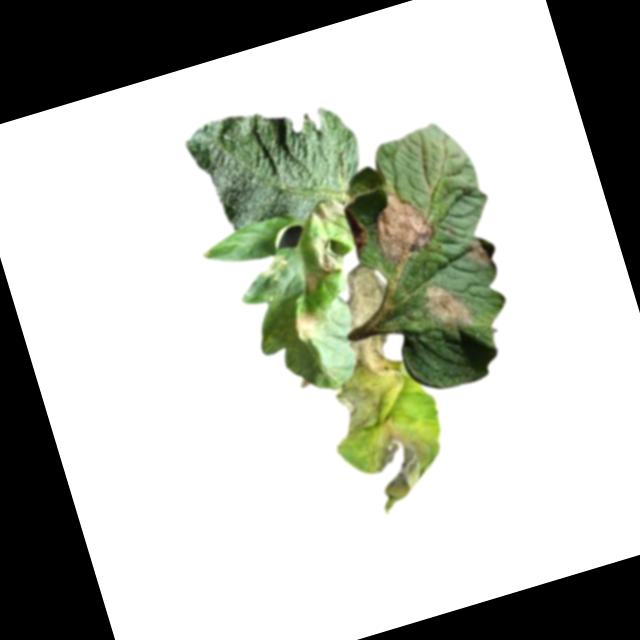Late_blight: (357, 414, 450, 516), (326, 353, 417, 437), (363, 182, 444, 271), (336, 257, 396, 332), (417, 270, 478, 340), (347, 325, 397, 369), (341, 203, 377, 260), (308, 233, 347, 278), (464, 230, 501, 274), (290, 304, 325, 341), (310, 193, 348, 222), (301, 265, 325, 292)
healthy: (180, 80, 375, 244)
